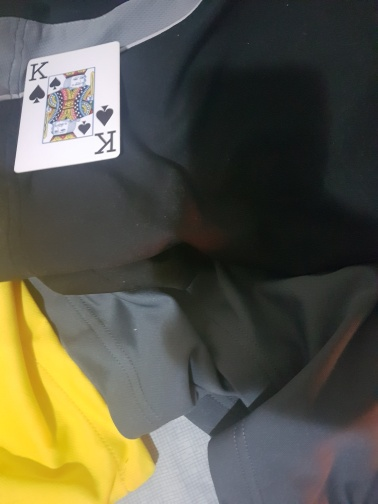king: (14, 39, 124, 176)
